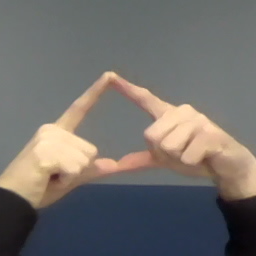J: (11, 69, 248, 188)
